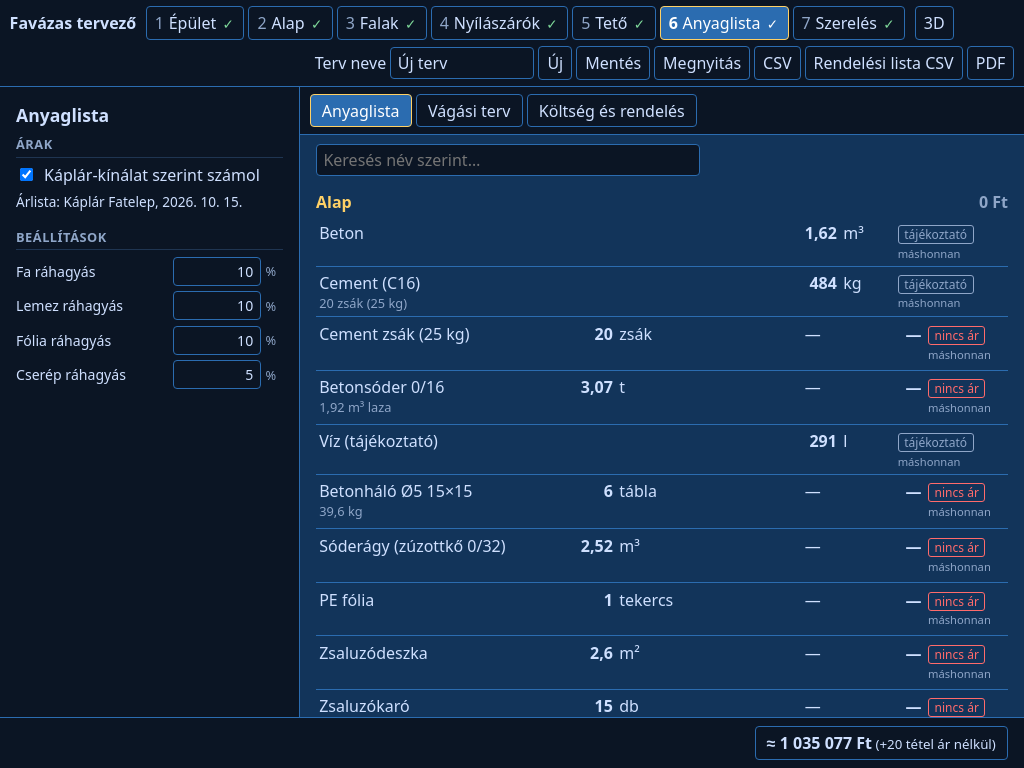
materials step shows tabs instead of the canvas
The width and height of the screenshot is (1024, 768).
Click the tab "Vágási terv" at (469, 111), box [416,94,523,127]
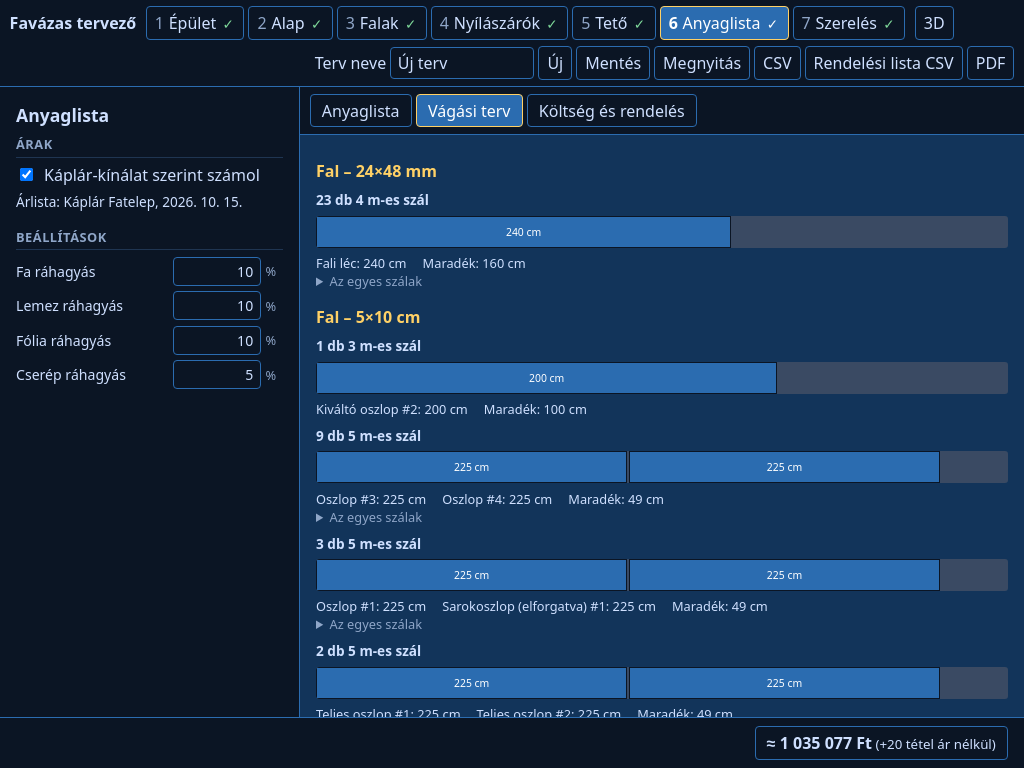
Now the element with class "cutstrip" that starts with "240 cm" is shown, box [316,216,1008,272]
